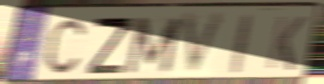C: (44, 16, 87, 76)
I: (230, 12, 255, 77)
K: (264, 14, 309, 73)
M: (122, 16, 184, 76)
V: (180, 10, 229, 79)
Z: (85, 16, 135, 76)
